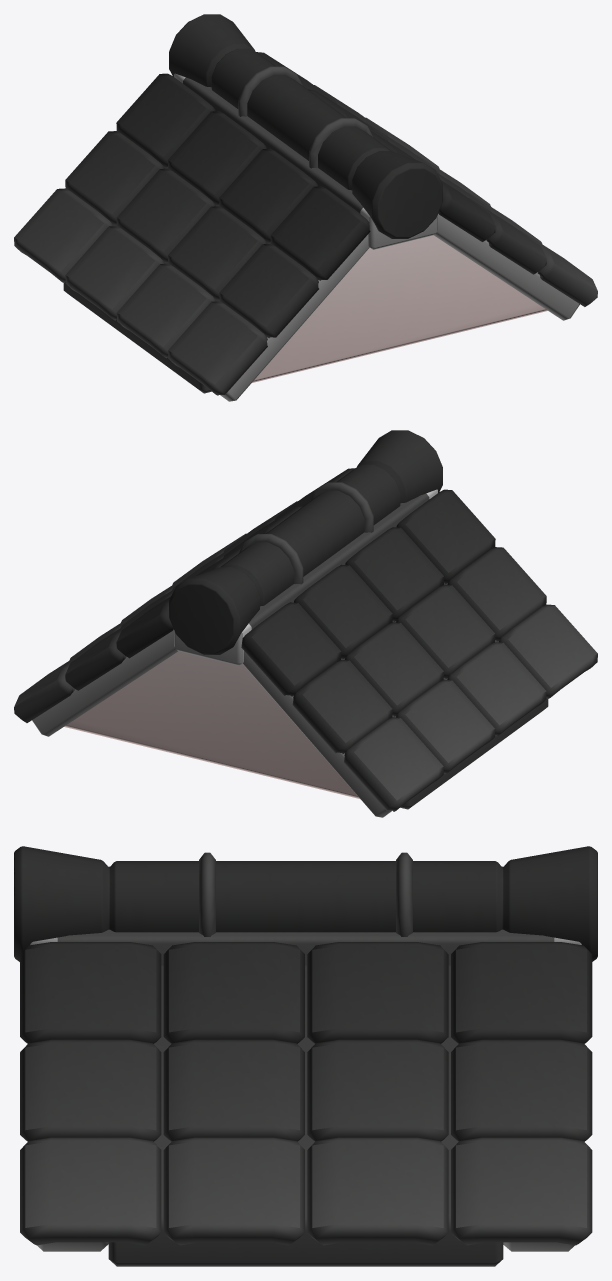
The model's file is SM_Wood_Roof_04.fbx.
3 renders of one model, top to bottom at view 1: azimuth 30°, elevation 25°; view 2: azimuth 150°, elevation 25°; view 3: azimuth 270°, elevation 25°, orthographic. The views are drawn at different scales.
Visible parts, largest first — view 1: SM_Wood_Roof_04; view 2: SM_Wood_Roof_04; view 3: SM_Wood_Roof_04.
Boxes of the visible parts, box(x1,y1,x2,y2) form: SM_Wood_Roof_04: box(14, 14, 597, 401); SM_Wood_Roof_04: box(14, 430, 597, 817); SM_Wood_Roof_04: box(14, 846, 597, 1266).
Size of the model in its own units: 1.09 by 0.5677 by 1.
